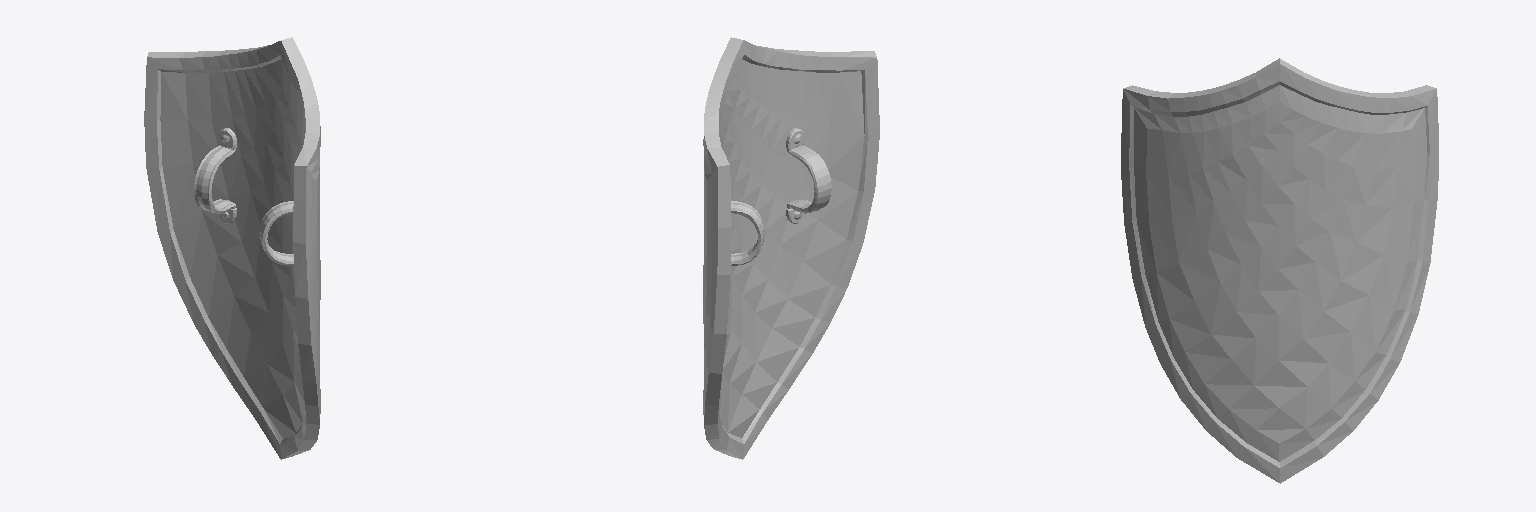
Rendered from Shield v1.obj.
3 views of the same model, side by side, from view 1: azimuth 30°, elevation 25°; view 2: azimuth 150°, elevation 25°; view 3: azimuth 270°, elevation 25° (orthographic).
Parts seen in each view (by area): view 1: Shield_v1; view 2: Shield_v1; view 3: Shield_v1.
Part boxes in pixels (x1,y1,x2,y2): Shield_v1: (144, 37, 320, 459); Shield_v1: (703, 37, 879, 459); Shield_v1: (1121, 58, 1438, 483).
Size of the model in its own units: 16.16 by 85.78 by 59.05.